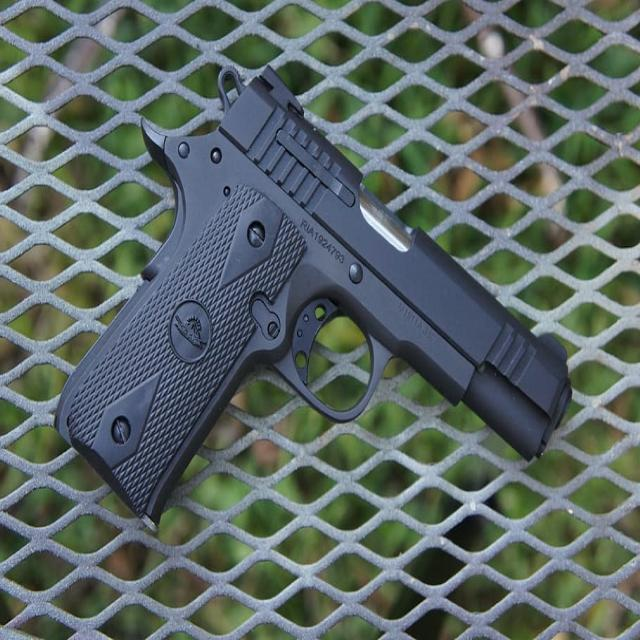gun: (45, 14, 585, 618)
